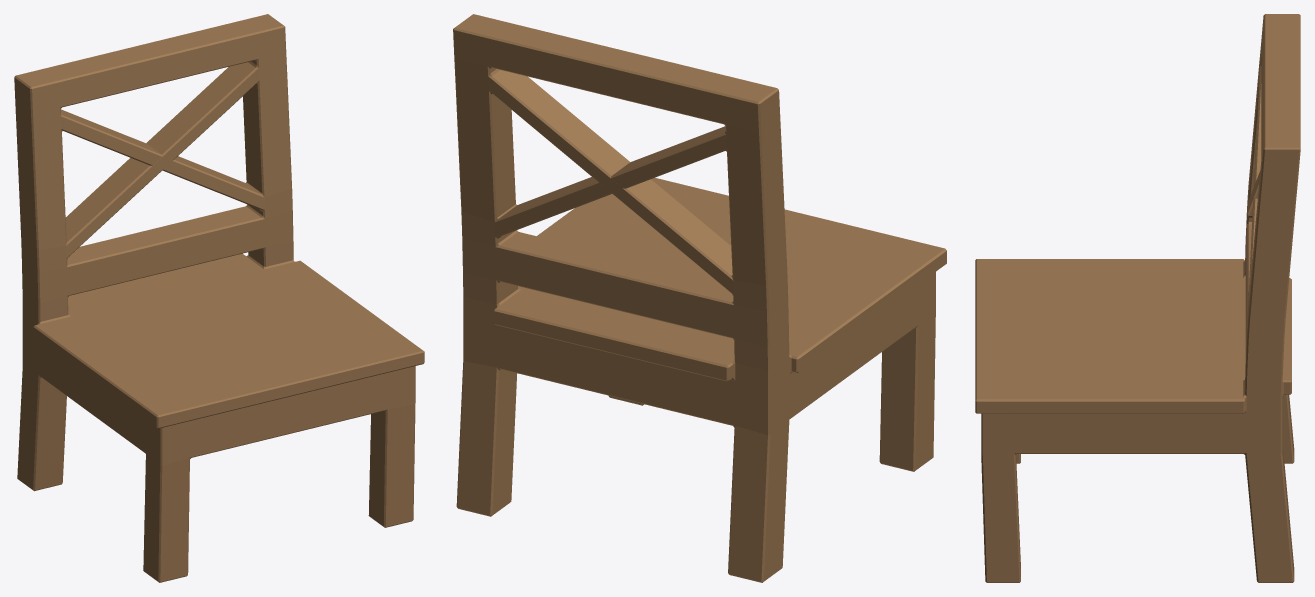
File: Chair.fbx
3 views of the same model, side by side, from view 1: azimuth 30°, elevation 25°; view 2: azimuth 150°, elevation 25°; view 3: azimuth 270°, elevation 25° (orthographic). The views are drawn at different scales.
Visible parts, largest first — view 1: Silla; view 2: Silla; view 3: Silla.
Part boxes in pixels (box(x1,y1,x2,y2)): Silla: box(14, 14, 424, 582); Silla: box(453, 14, 946, 582); Silla: box(975, 14, 1300, 582).
Size of the model in its own units: 210 by 301 by 204.
